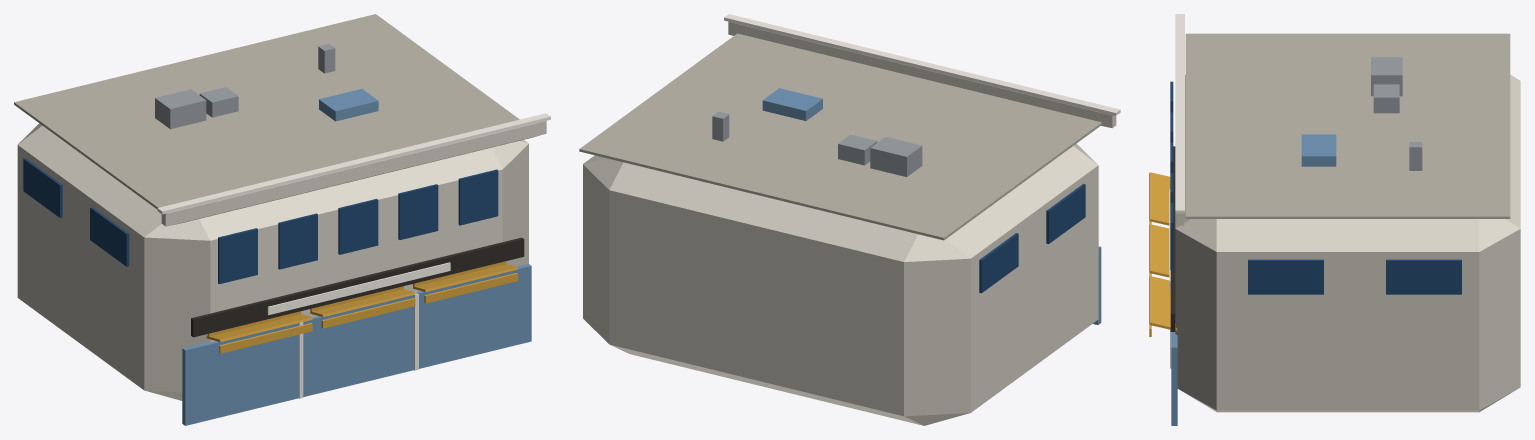
File: shop_w16_f2_solid.glb
The picture shows the model from 3 angles, left to right: view 1: azimuth 30°, elevation 25°; view 2: azimuth 150°, elevation 25°; view 3: azimuth 270°, elevation 25°; orthographic projection. The views are drawn at different scales.
Parts seen in each view (by area): view 1: walls, roofslab, shopglass, parapet, fascia, pcap, win.003, win.004, win.002, win, win.001, fasciatx (+11 smaller); view 2: walls, roofslab, parapet, pcap, hvac, sb.002, sb, skylt, hvac2; view 3: walls, roofslab, sb.001, sb.003, pcap, skylt, awn.002, awn, awn.001, hvac, hvac2, fascia (+2 smaller).
Boxes of the visible parts, x1,y1,x2,y2 form: walls: (17,123,528,400); roofslab: (14,14,519,209); shopglass: (182,264,531,425); parapet: (161,121,546,226); fascia: (191,237,524,337); pcap: (157,113,550,214); win.003: (398,184,438,239); win.004: (458,169,498,225); win.002: (338,198,378,254); win: (218,228,257,284); win.001: (278,213,317,269); fasciatx: (267,262,450,315); walls: (583,143,1098,425); roofslab: (579,33,1101,240); parapet: (728,21,1116,128); pcap: (724,14,1120,115); hvac: (870,137,922,176); sb.002: (979,233,1018,293); sb: (1046,184,1085,243); skylt: (762,88,822,120); hvac2: (838,134,877,165); walls: (1175,75,1520,412); roofslab: (1185,33,1510,218); sb.001: (1248,259,1323,294); sb.003: (1386,259,1461,294); pcap: (1175,14,1184,213); skylt: (1301,134,1336,166); awn.002: (1149,276,1177,330); awn: (1149,172,1170,225); awn.001: (1149,224,1169,277); hvac: (1371,57,1402,96); hvac2: (1373,84,1399,113); fascia: (1170,146,1175,331).
Bounding box in the file's own units: 16.2 × 9.1 × 12.91.
